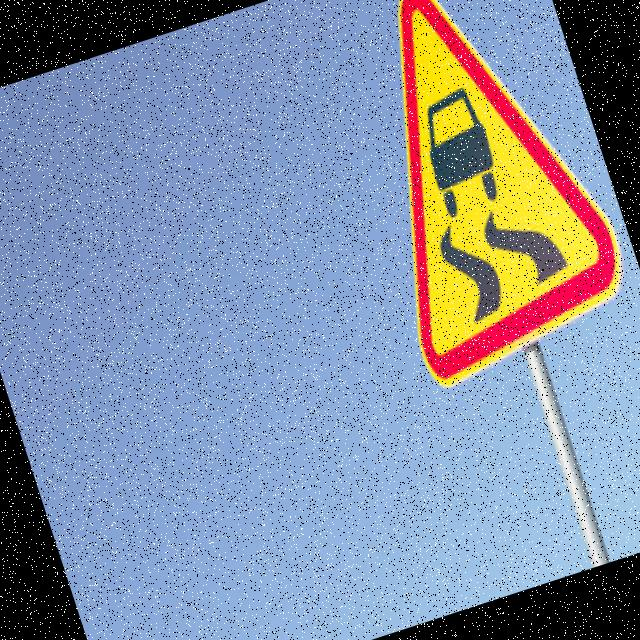road_slippery: (307, 0, 640, 396)
